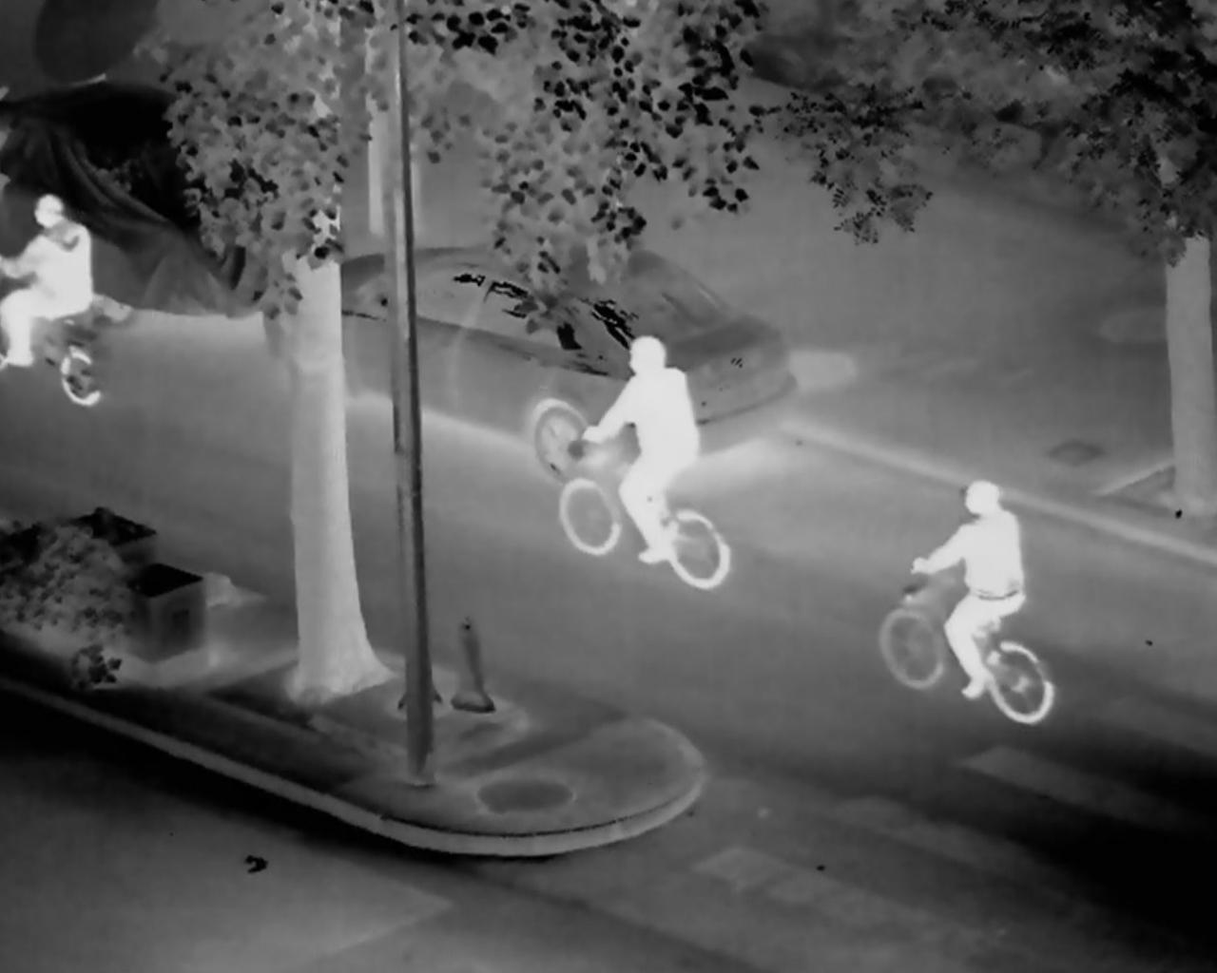person: (585, 335, 700, 562), (909, 481, 1026, 700)
